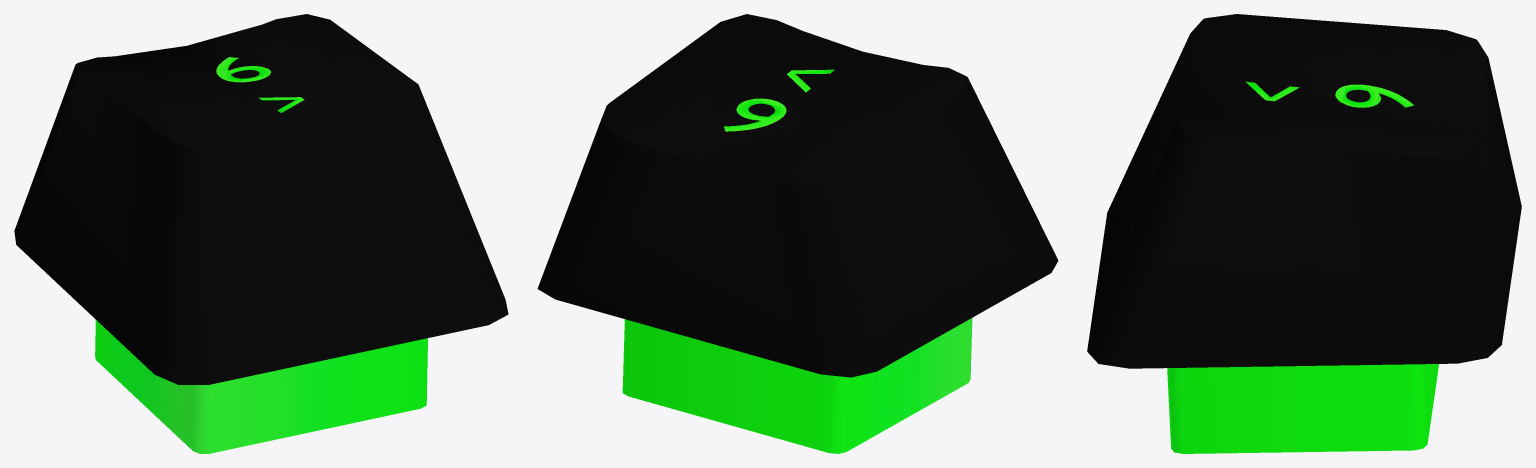
File: key_6-B8GBHPl4.glb
The picture shows the model from 3 angles, left to right: view 1: azimuth 30°, elevation 25°; view 2: azimuth 150°, elevation 25°; view 3: azimuth 270°, elevation 25°; orthographic projection. The views are drawn at different scales.
Visible parts, largest first — view 1: StudyShelf_240; view 2: StudyShelf_240; view 3: StudyShelf_240.
Part boxes in pixels (x1,y1,x2,y2): StudyShelf_240: [14, 14, 508, 453]; StudyShelf_240: [537, 14, 1058, 453]; StudyShelf_240: [1087, 14, 1521, 453].
Bounding box in the file's own units: 4.35 × 3.55 × 4.35.
2 materials, 1 textured.
